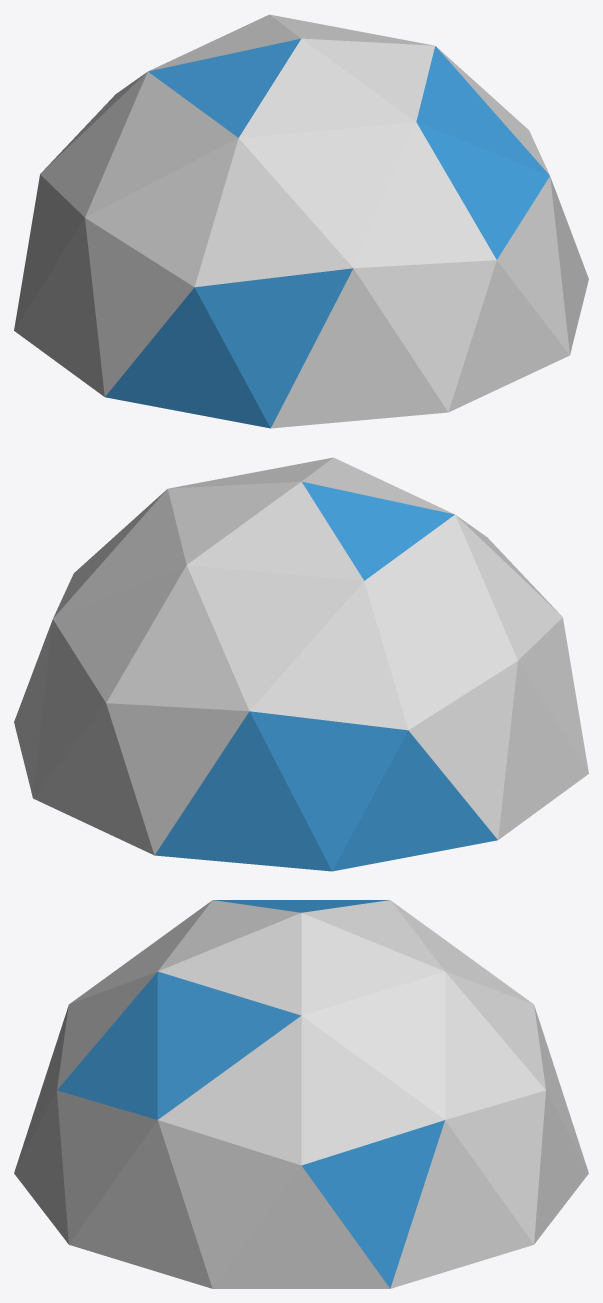
Rendered from Level1.fbx.
3 views of the same model, one above another, from view 1: azimuth 30°, elevation 25°; view 2: azimuth 150°, elevation 25°; view 3: azimuth 270°, elevation 25° (orthographic). The views are drawn at different scales.
Parts seen in each view (by area): view 1: Icosphere; view 2: Icosphere; view 3: Icosphere.
Boxes of the visible parts, x1,y1,x2,y2 form: Icosphere: (14, 14, 588, 428); Icosphere: (14, 457, 588, 871); Icosphere: (14, 900, 588, 1288).
Bounding box in the file's own units: 1902 × 1000 × 2000.
